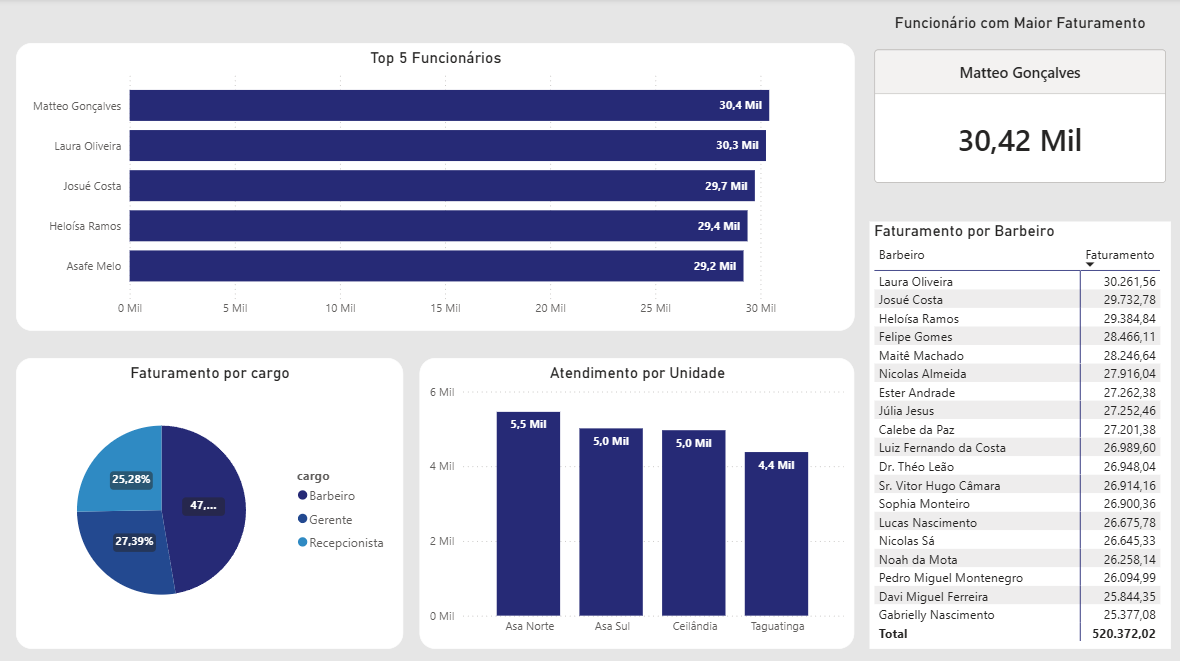

The page's visual inventory and layout, read from the dashboard file:
{"tool":"powerbi","page":{"name":"Funcionários","canvas":[1280,720],"ordinal":1},"visuals":[{"type":"barChart","title":"Top 5 Funcionários","fields":{"Category":["barber funcionarios.nome"],"Y":["barber atendimentos.Faturamento"]},"box":[19.4,48.6,905.1,310.9],"z":0},{"type":"pieChart","fields":{"Category":["barber funcionarios.cargo"],"Y":["barber atendimentos.Faturamento"]},"box":[19.4,388.6,417.8,314.1],"z":1000},{"type":"pivotTable","title":"Faturamento por Barbeiro","fields":{"Rows":["barber funcionarios.nome"],"Values":["barber atendimentos.Faturamento"]},"box":[940.8,241.3,325.5,461.5],"z":2000},{"type":"clusteredColumnChart","title":"Atendimento por Unidade","fields":{"Category":["barber funcionarios.unidade"],"Y":["CountNonNull(barber atendimentos.id_atendimento)"]},"box":[455,388.6,469.6,314.1],"z":3000},{"type":"cardVisual","title":"Funcionário com Maior Faturamento","fields":{"Rows":["barber funcionarios.nome"],"Data":["barber atendimentos.Faturamento"]},"box":[940.8,16.2,325.5,208.9],"z":4000}]}

Visuals, with their boxes in screenshot pixels (x1, y1, x2, y2), scaled from the page's 1280x720 canvas onto the 1180x661 screenshot:
"Top 5 Funcionários" barChart: (18,45,852,330)
pieChart - barber funcionarios.cargo x barber atendimentos.Faturamento: (18,357,403,645)
"Faturamento por Barbeiro" pivotTable: (867,222,1167,645)
"Atendimento por Unidade" clusteredColumnChart: (419,357,852,645)
"Funcionário com Maior Faturamento" cardVisual: (867,15,1167,207)
